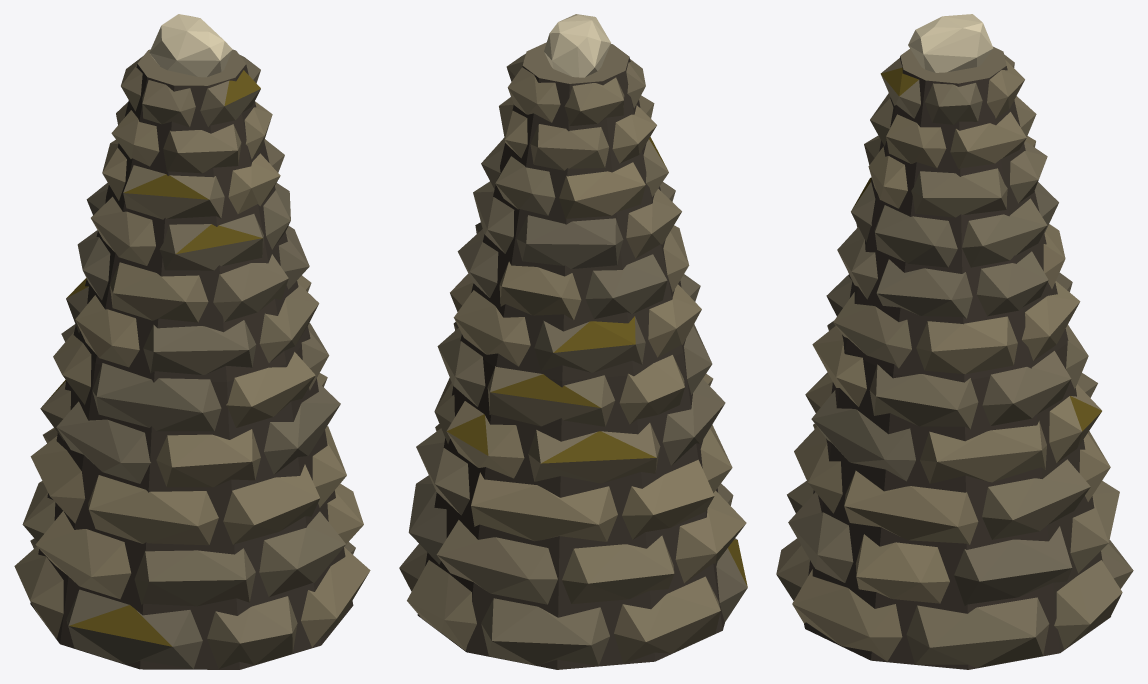
File: pipi-horeko-cairn-f5db4b.glb
3 renders of one model, left to right at view 1: azimuth 30°, elevation 25°; view 2: azimuth 150°, elevation 25°; view 3: azimuth 270°, elevation 25°, orthographic.
Visible parts, largest first — view 1: cairn; view 2: cairn; view 3: cairn.
Part boxes in pixels (bbox=[...]): cairn: bbox=[14, 14, 370, 669]; cairn: bbox=[399, 14, 747, 669]; cairn: bbox=[776, 14, 1133, 669].
Bounding box in the file's own units: 0.9874 × 1.79 × 0.9995.
